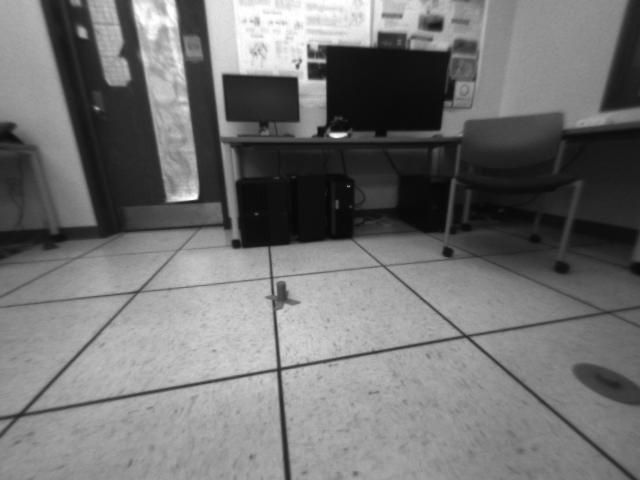X: (263, 279, 302, 312)
